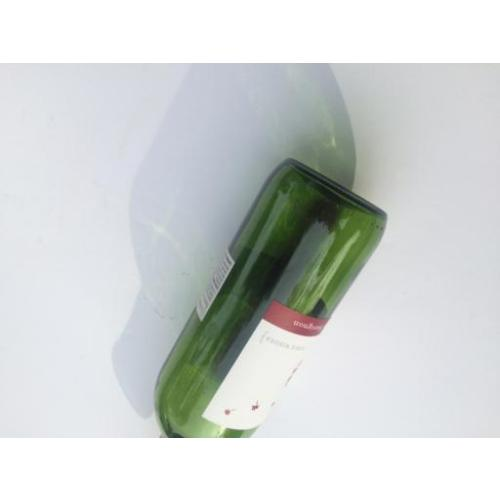glass: (141, 160, 388, 436)
